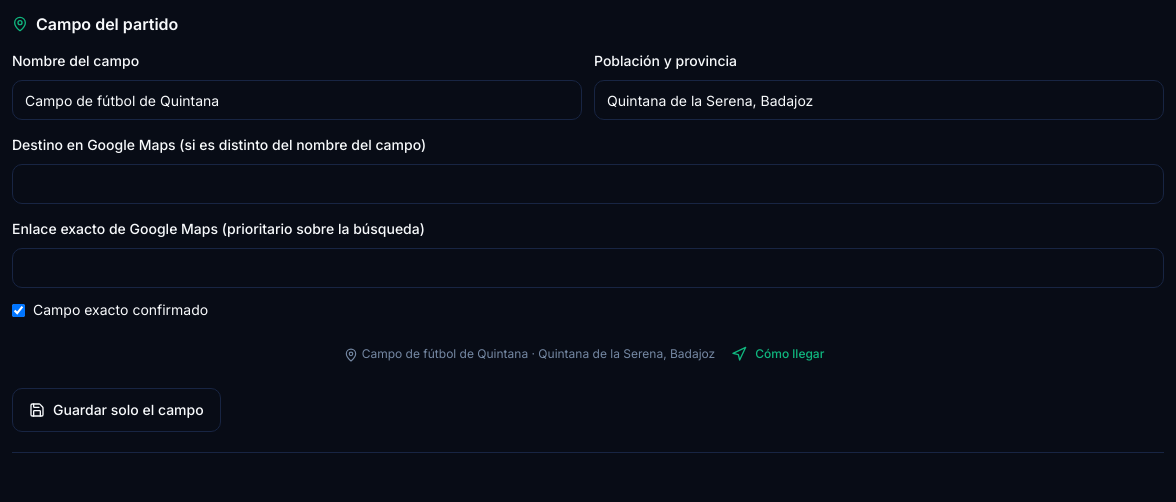
it: Guardar solo campo › guarda solo la sede conservando 2–1, estado y árbitro
Replace the text in the field labelled "Nombre del campo" with "Campo alternativo confirmado" at [297, 100], box [12,80,582,120]
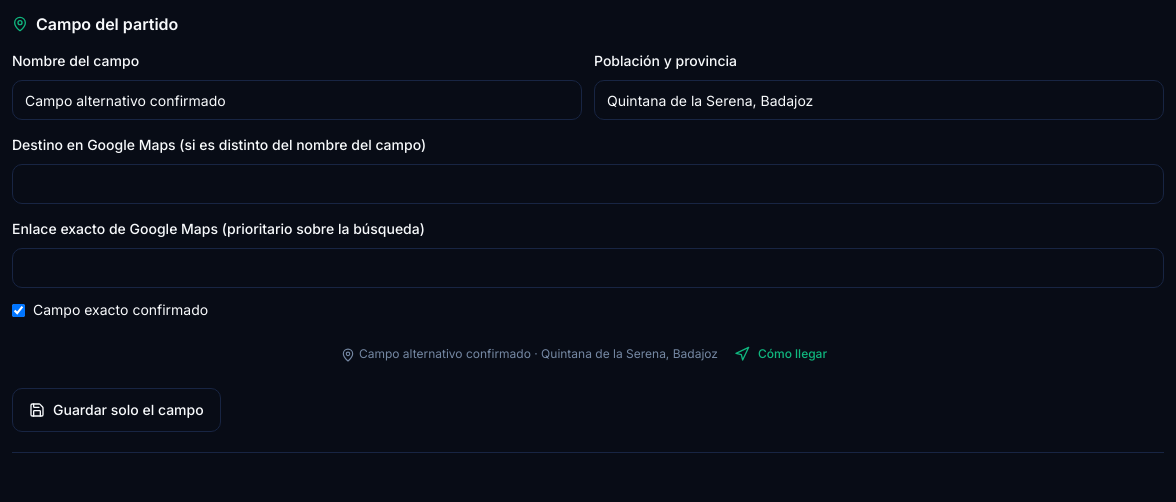
Click the button "Guardar solo el campo" at [116, 410], box [12,388,221,432]
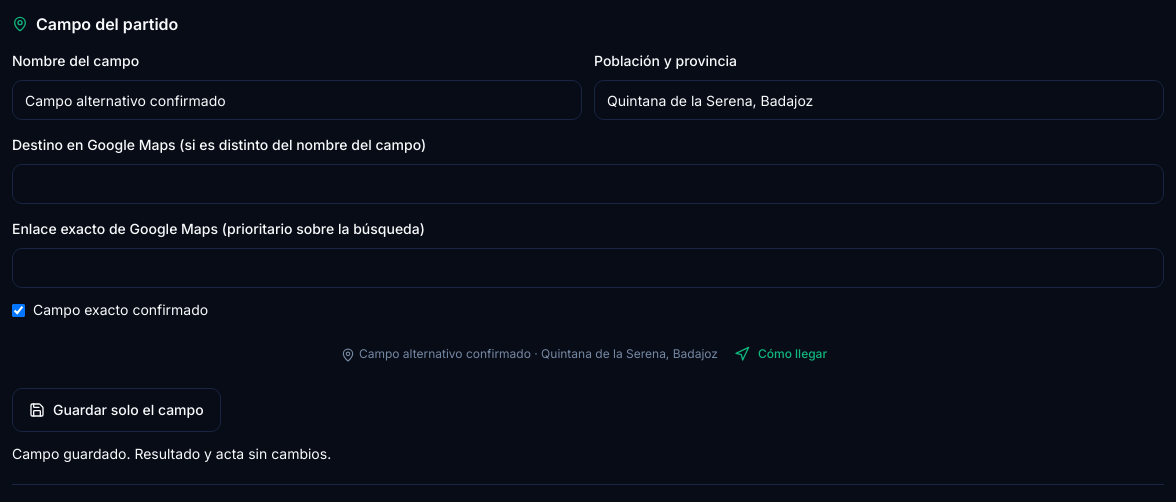
Result: the message "Campo guardado. Resultado y acta sin cambios." is shown at [12,445,331,462]
